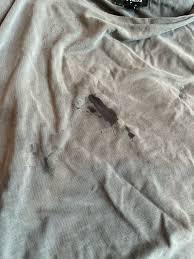mustard: (84, 86, 139, 144)
